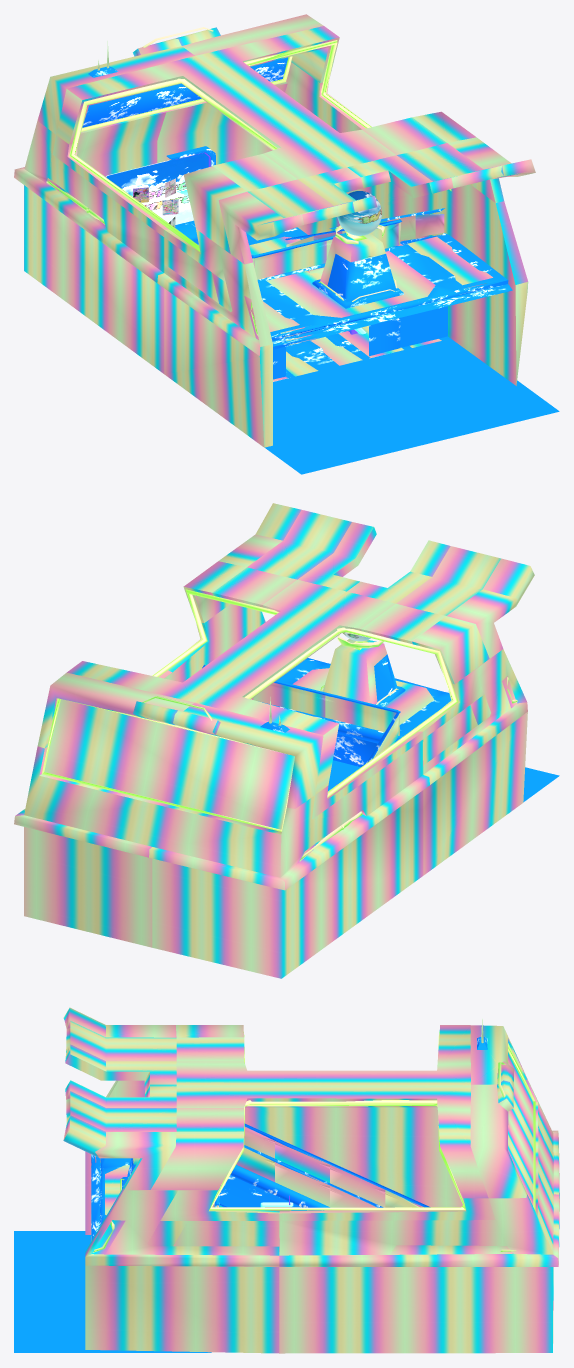
The model's file is WeirdHQ.glb.
3 views of the same model, one above another, from view 1: azimuth 30°, elevation 25°; view 2: azimuth 150°, elevation 25°; view 3: azimuth 270°, elevation 25° (orthographic). The views are drawn at different scales.
Visible parts, largest first — view 1: ClubMain, BigScreen, Contact; view 2: ClubMain; view 3: ClubMain.
Boxes of the visible parts, box(x1,y1,x2,y2) form: ClubMain: box(14, 14, 559, 474); BigScreen: box(106, 146, 215, 245); Contact: box(337, 191, 381, 235); ClubMain: box(14, 503, 559, 978); ClubMain: box(14, 1007, 559, 1353).
Size of the model in its own units: 11.07 by 9.56 by 19.78.
Materials: 18 (12 with a texture image).
